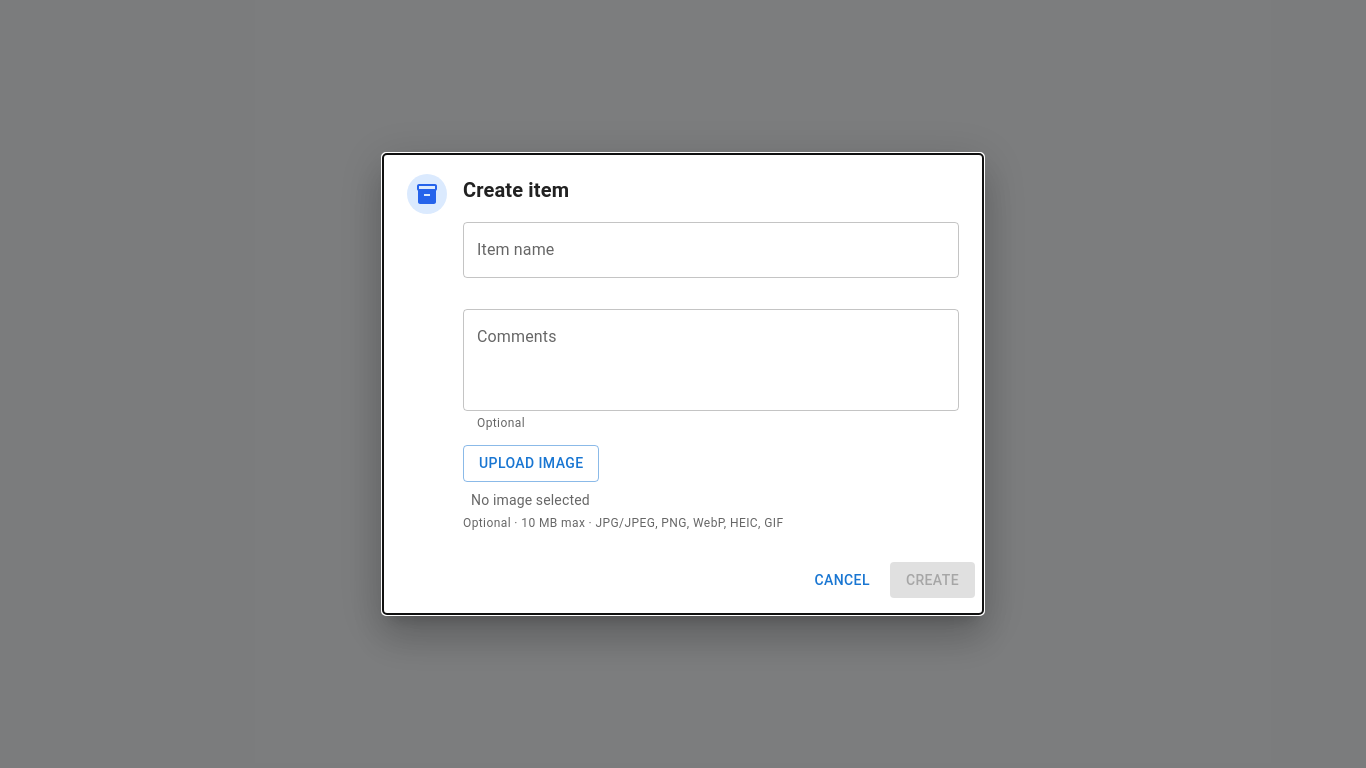
Test case: CreateItemDialog › prevents duplicate item names in a folder
The width and height of the screenshot is (1366, 768).
In the field labelled "Item name": (711, 250) [463, 222, 959, 278], type "Widget"
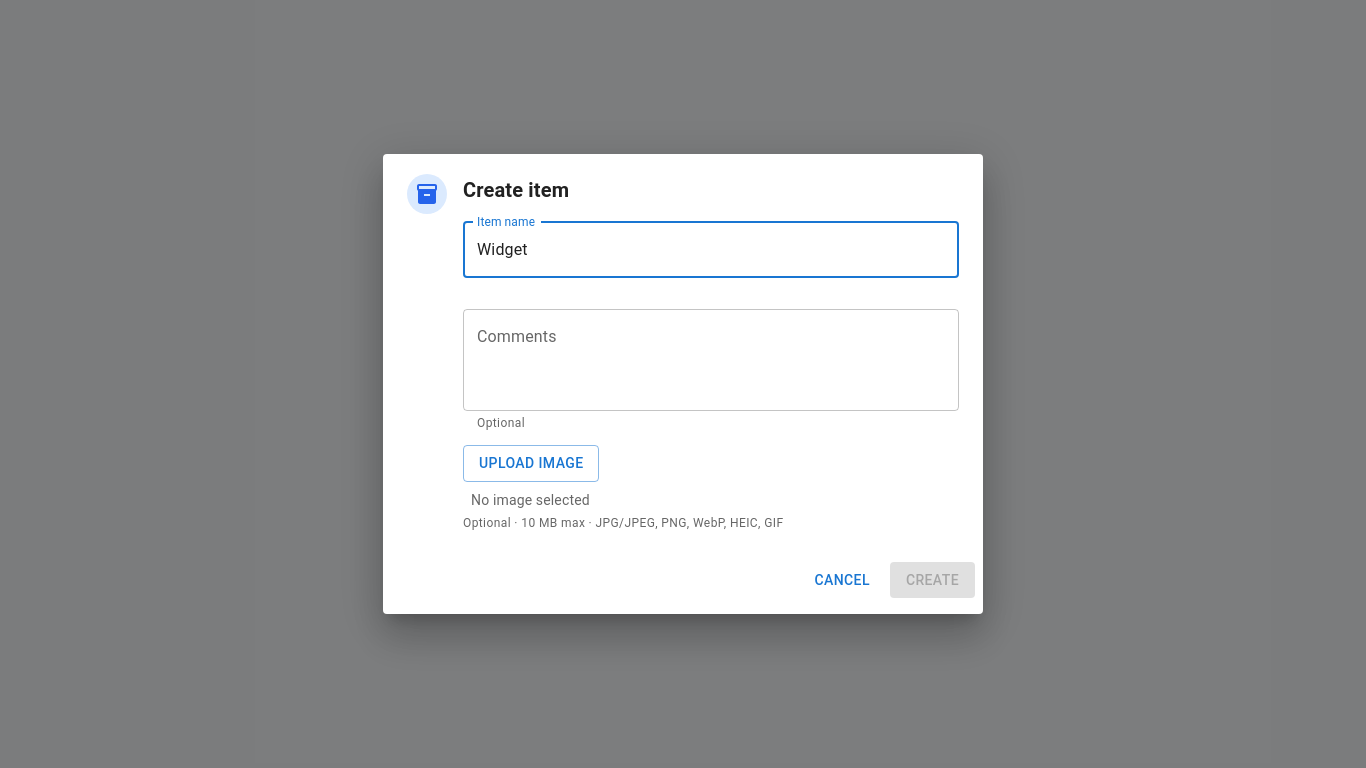
Click the text box labelled "Comments": (711, 360) [477, 325, 945, 394]
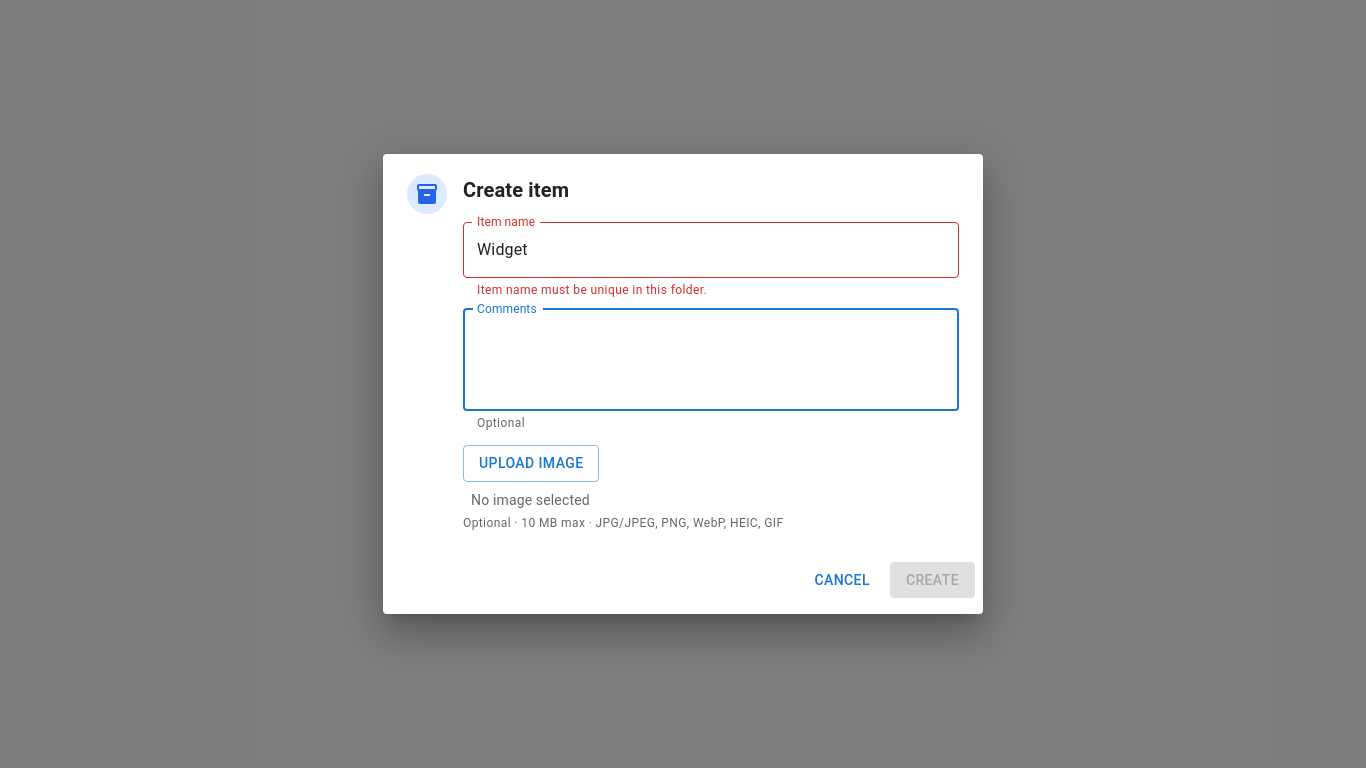
Expected: the button "Create" is disabled, [890, 562, 975, 598]
Result: the text "Item name must be unique in this folder." is shown at [477, 283, 707, 297]
